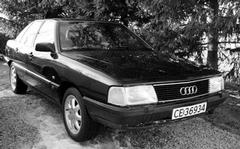car: (6, 19, 231, 144)
